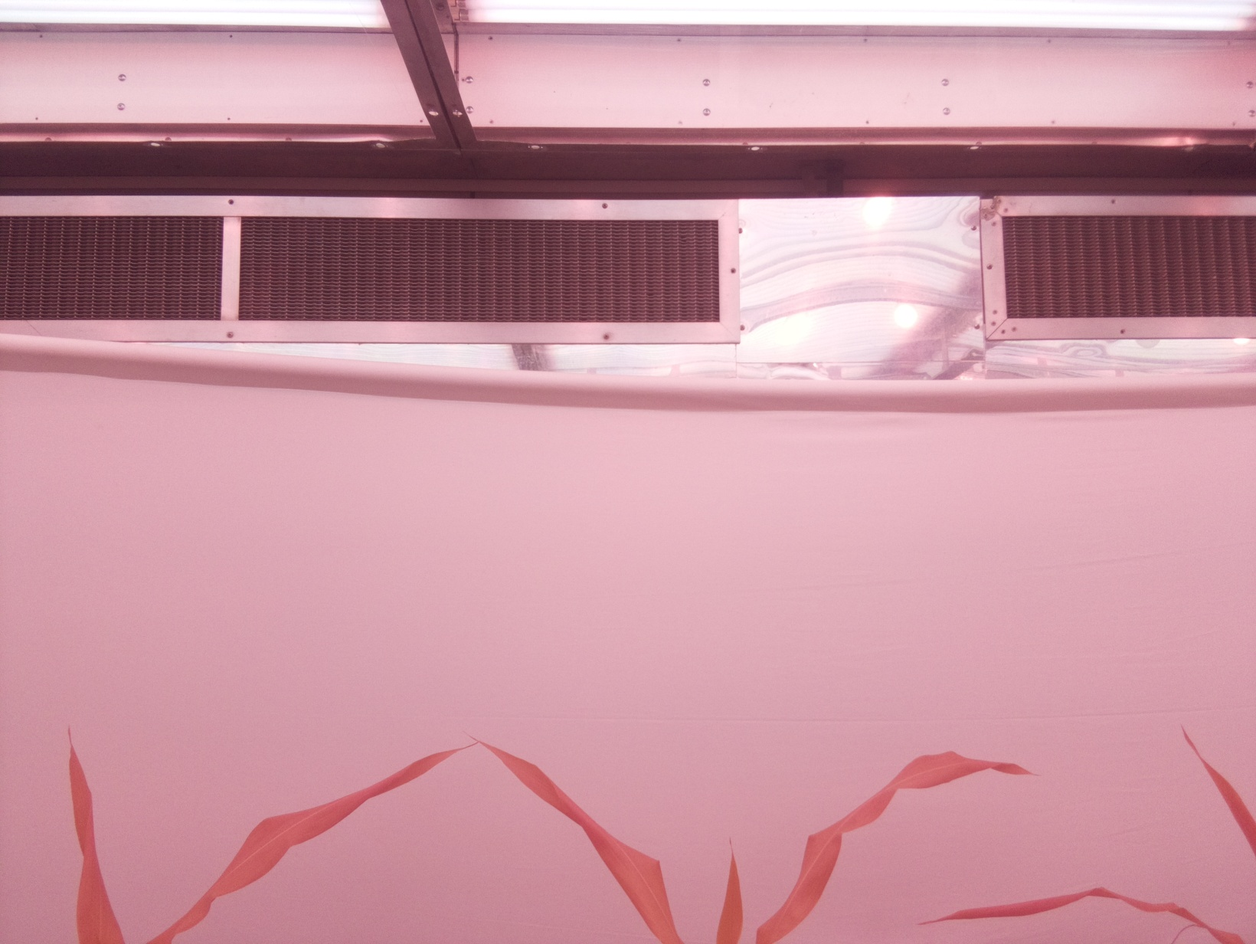maize: (468, 734, 1039, 944), (66, 723, 473, 944), (917, 723, 1256, 944)
